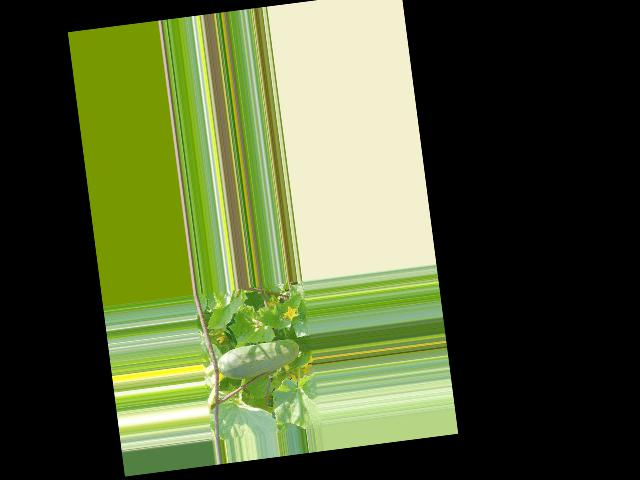cucumber: (216, 337, 302, 383)
